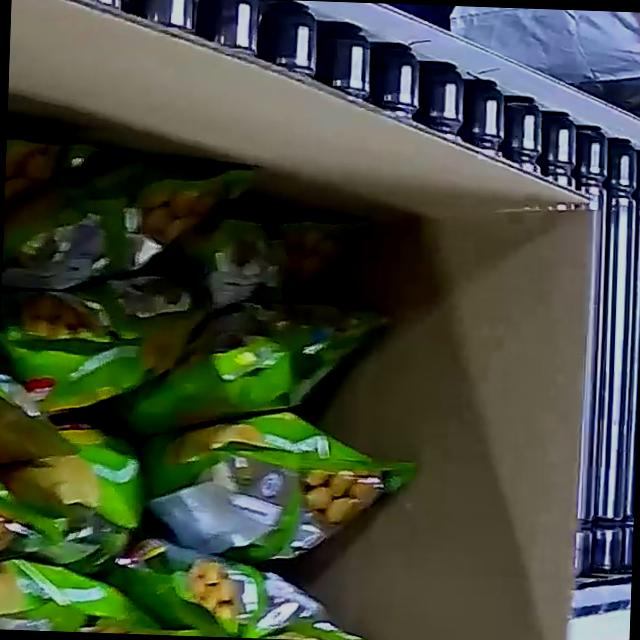yogurt: (0, 107, 430, 640)
